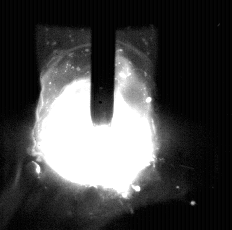arame: (92, 0, 115, 127)
poca: (36, 0, 154, 230)
